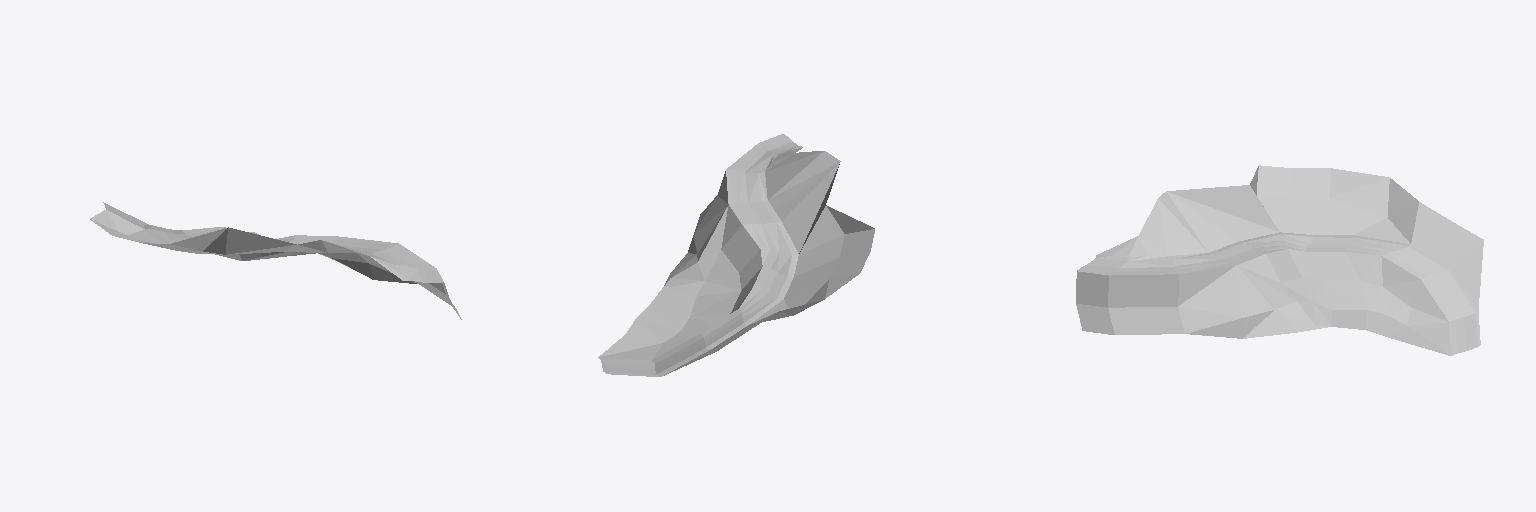
Rendered from path_to_town.obj.
3 views of the same model, side by side, from view 1: azimuth 30°, elevation 25°; view 2: azimuth 150°, elevation 25°; view 3: azimuth 270°, elevation 25° (orthographic).
Parts seen in each view (by area): view 1: path_to_town_Mesh; view 2: path_to_town_Mesh; view 3: path_to_town_Mesh.
Part boxes in pixels (bbox=[...]): path_to_town_Mesh: bbox=[90, 202, 461, 319]; path_to_town_Mesh: bbox=[598, 134, 874, 376]; path_to_town_Mesh: bbox=[1076, 165, 1483, 355].
Size of the model in its own units: 309 by 150 by 463.